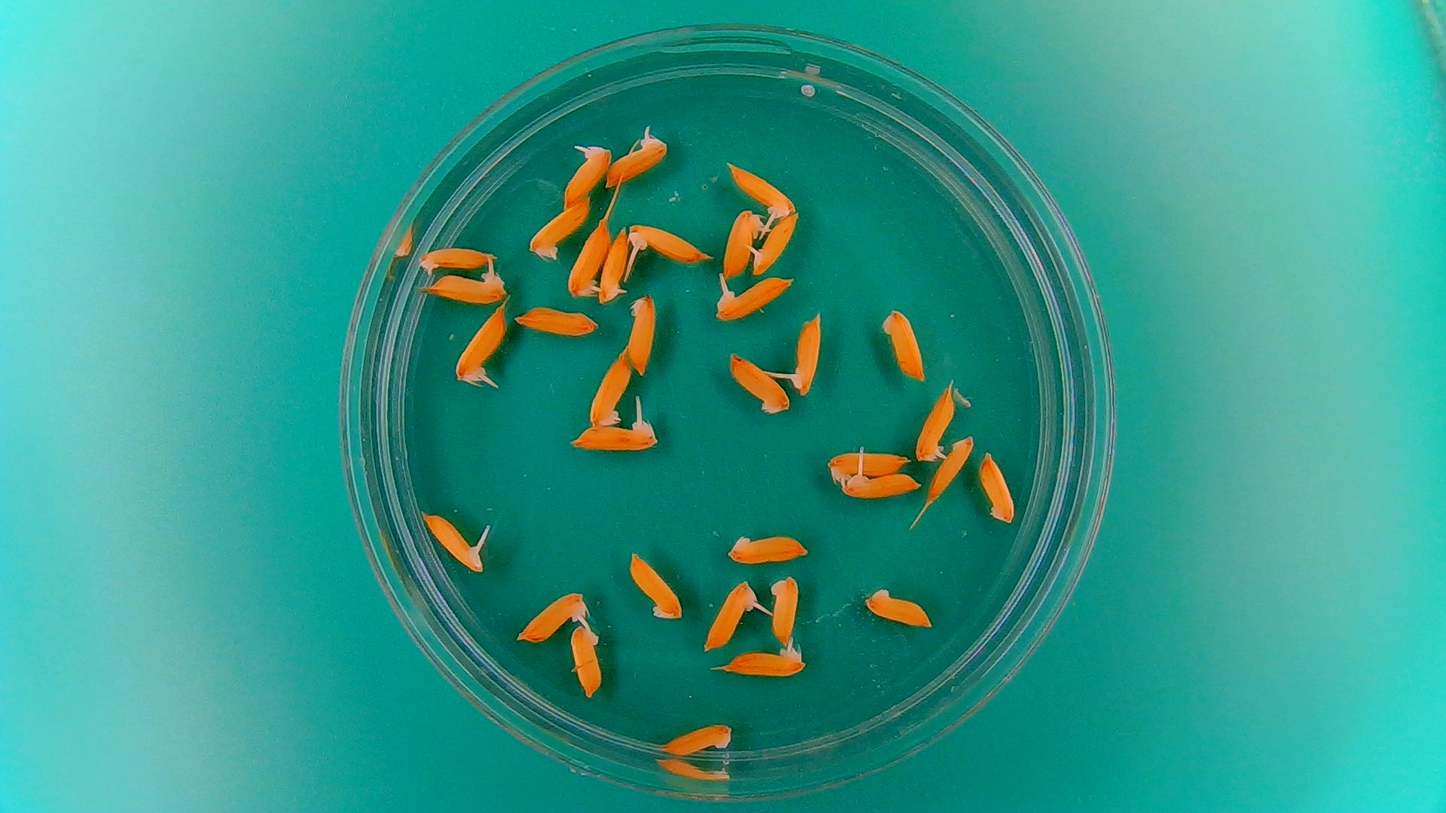no: (627, 547, 688, 623), (525, 194, 593, 262), (584, 347, 632, 430), (728, 355, 792, 416), (822, 443, 911, 485), (926, 432, 975, 505), (512, 300, 599, 340), (977, 446, 1020, 526), (861, 583, 935, 629), (883, 309, 929, 383), (624, 290, 662, 376), (724, 527, 812, 564), (656, 717, 735, 757), (570, 626, 609, 707), (766, 571, 802, 646), (415, 241, 499, 273)
yes: (450, 304, 508, 384), (731, 162, 799, 228), (423, 513, 493, 574), (517, 590, 590, 644), (564, 218, 612, 300), (626, 218, 711, 263), (702, 583, 757, 652), (571, 413, 659, 455), (718, 638, 808, 679), (715, 276, 796, 321), (749, 211, 801, 279), (604, 132, 666, 188), (912, 386, 956, 463), (719, 208, 766, 280), (789, 313, 827, 395), (565, 146, 613, 210), (837, 467, 924, 501), (596, 224, 631, 306), (428, 272, 508, 306)
